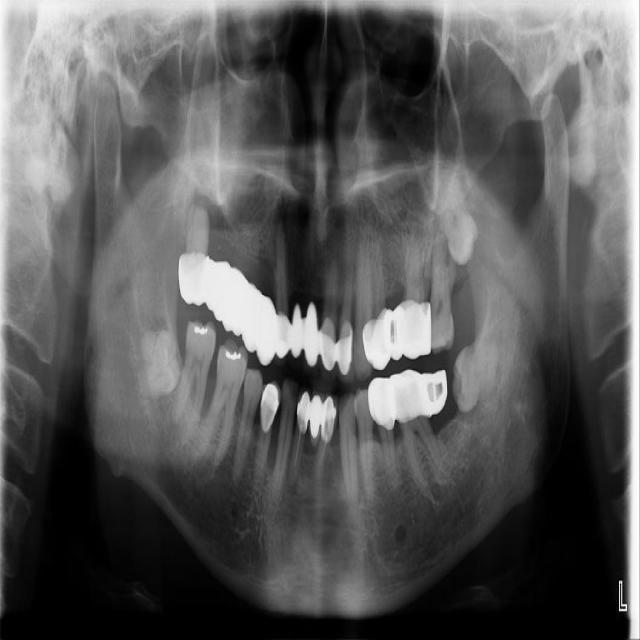Crown: (260, 380, 281, 433)
Filling: (219, 350, 245, 361), (193, 325, 209, 335)
Periapical lesion: (188, 194, 233, 235), (426, 483, 445, 512), (286, 472, 300, 497)
Root Canal Treatment: (294, 433, 302, 476), (319, 443, 328, 478)
impacted tooth: (426, 169, 477, 266), (454, 325, 500, 409), (133, 328, 179, 393)
